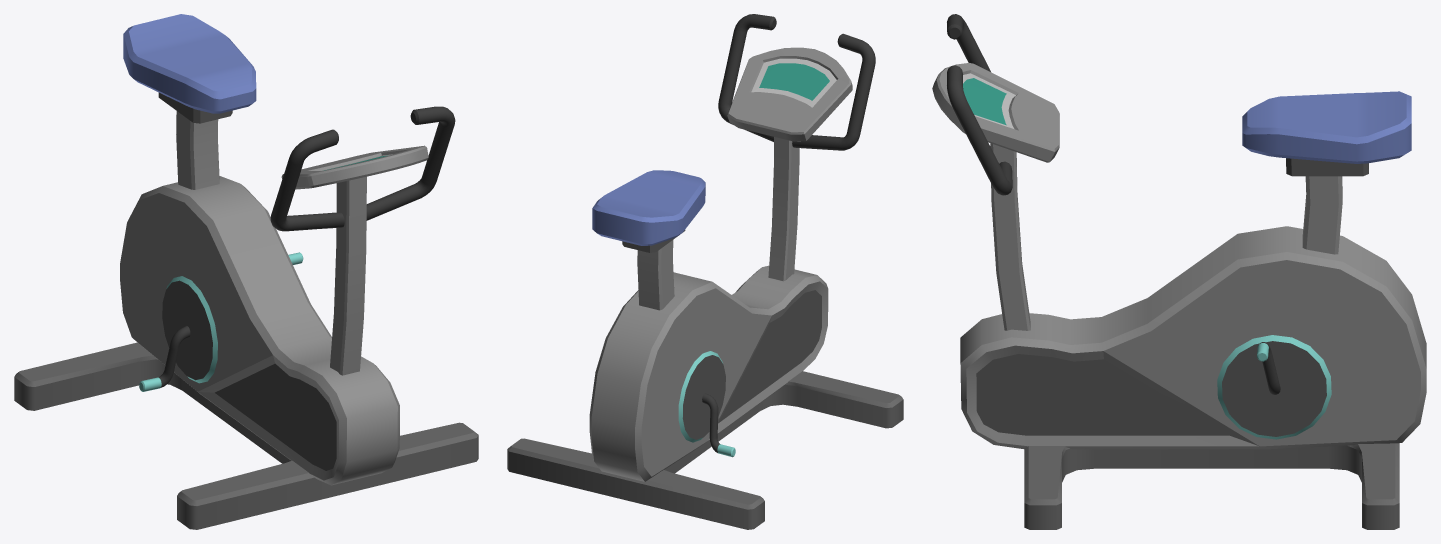
The model's file is bike.fbx.
3 views of the same model, side by side, from view 1: azimuth 30°, elevation 25°; view 2: azimuth 150°, elevation 25°; view 3: azimuth 270°, elevation 25° (orthographic). The views are drawn at different scales.
Visible parts, largest first — view 1: Hypercasual_Gym_Training2, Hypercasual_Gym_Training2_1; view 2: Hypercasual_Gym_Training2, Hypercasual_Gym_Training2_1; view 3: Hypercasual_Gym_Training2, Hypercasual_Gym_Training2_1.
Boxes of the visible parts, x1,y1,x2,y2 form: Hypercasual_Gym_Training2: [14, 14, 478, 529]; Hypercasual_Gym_Training2_1: [139, 252, 303, 391]; Hypercasual_Gym_Training2: [507, 14, 903, 529]; Hypercasual_Gym_Training2_1: [678, 351, 735, 457]; Hypercasual_Gym_Training2: [932, 14, 1426, 529]; Hypercasual_Gym_Training2_1: [1217, 335, 1331, 439].
Size of the model in its own units: 1.63 by 2.15 by 2.33.
